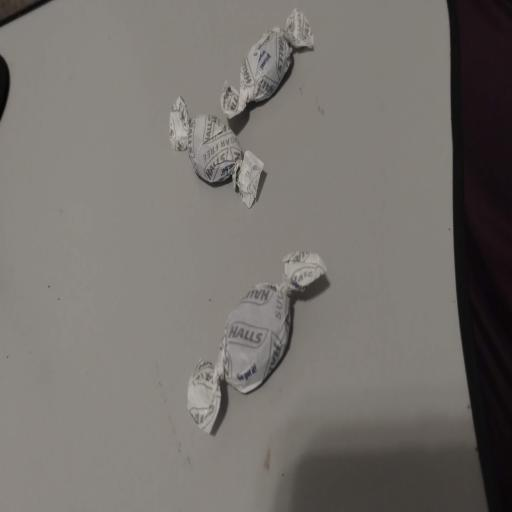chocolate: (188, 252, 325, 432), (170, 97, 263, 207), (221, 9, 313, 118)
